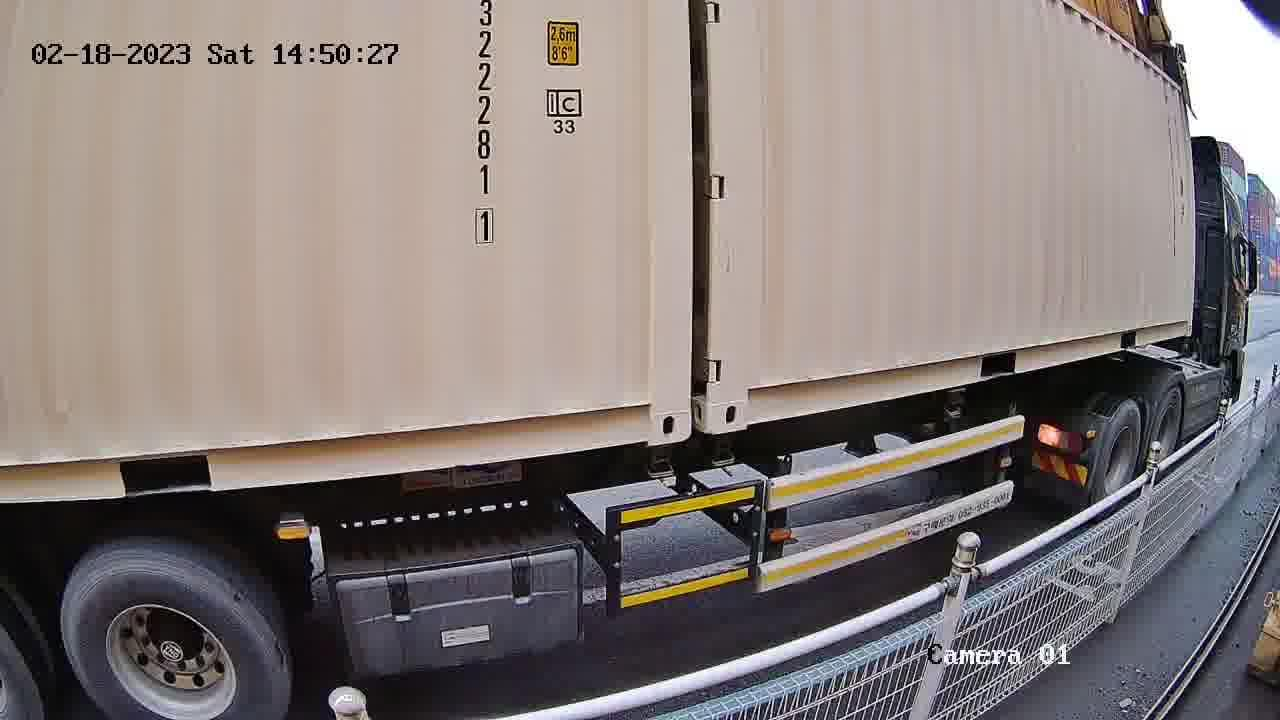Cone: (707, 430, 740, 479), (645, 444, 679, 490)
Hole_L: (710, 361, 775, 433)
Hole_R: (618, 380, 692, 445)
Tire: (67, 549, 283, 718), (1099, 405, 1141, 509), (1152, 388, 1184, 474)
